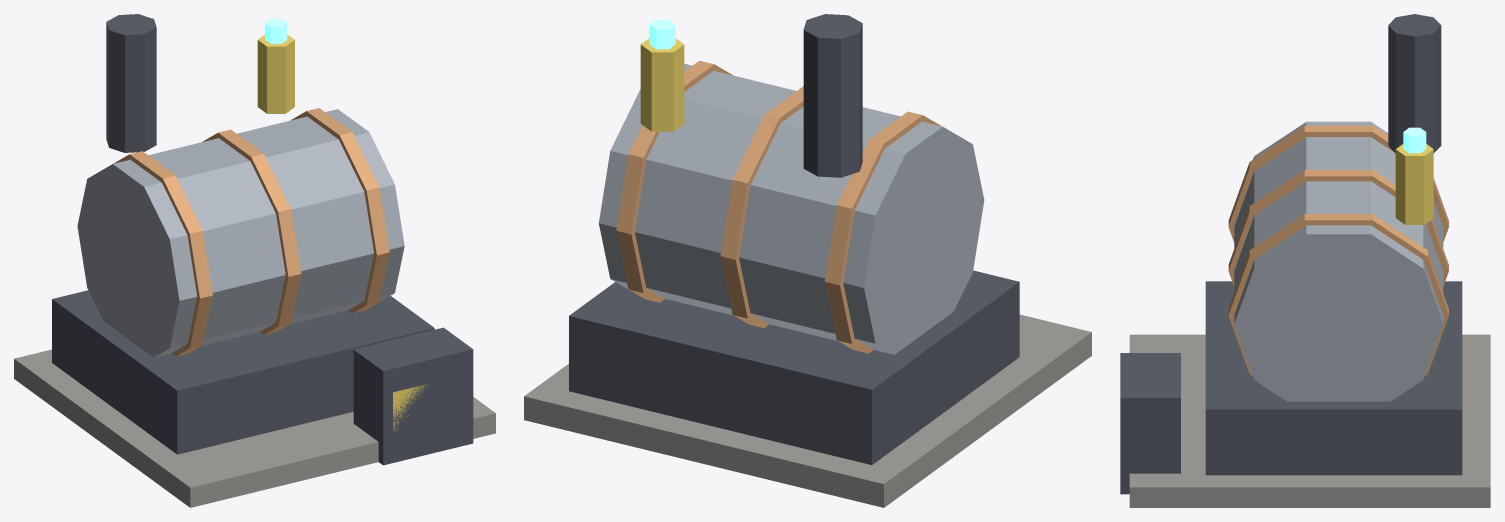
File: gerador.glb
3 views of the same model, side by side, from view 1: azimuth 30°, elevation 25°; view 2: azimuth 150°, elevation 25°; view 3: azimuth 270°, elevation 25° (orthographic). The views are drawn at different scales.
Parts seen in each view (by area): view 1: gerador; view 2: gerador; view 3: gerador.
Boxes of the visible parts, <box> form: gerador: <box>14,14,495,507</box>; gerador: <box>524,14,1091,507</box>; gerador: <box>1120,14,1490,507</box>.
Bounding box in the file's own units: 1.9 × 2.15 × 1.95.
